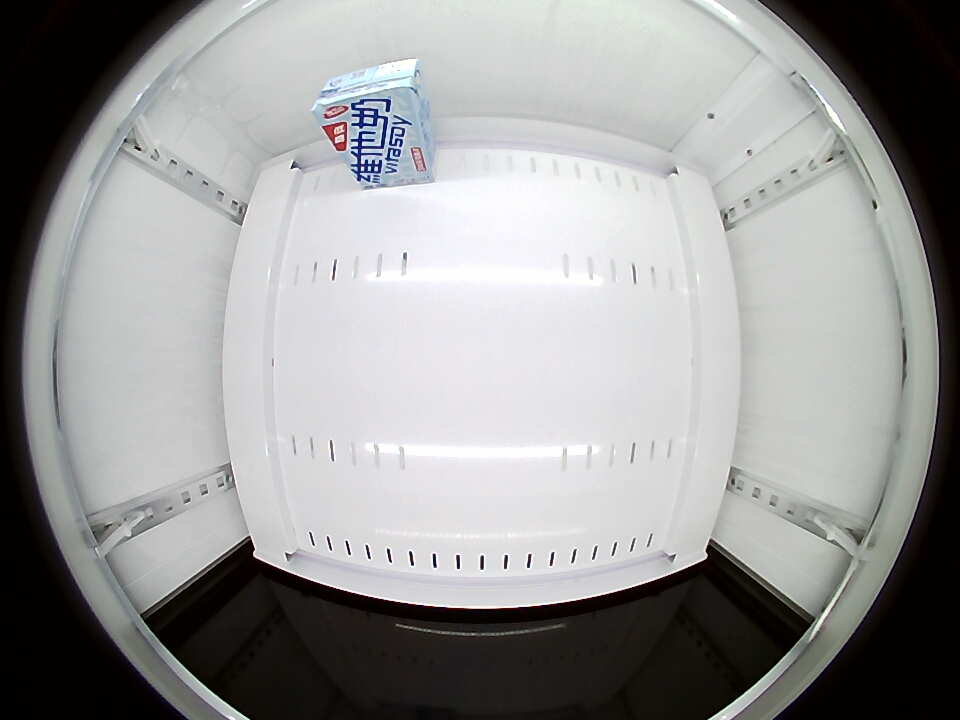weitanaiditang: (312, 58, 427, 138)
